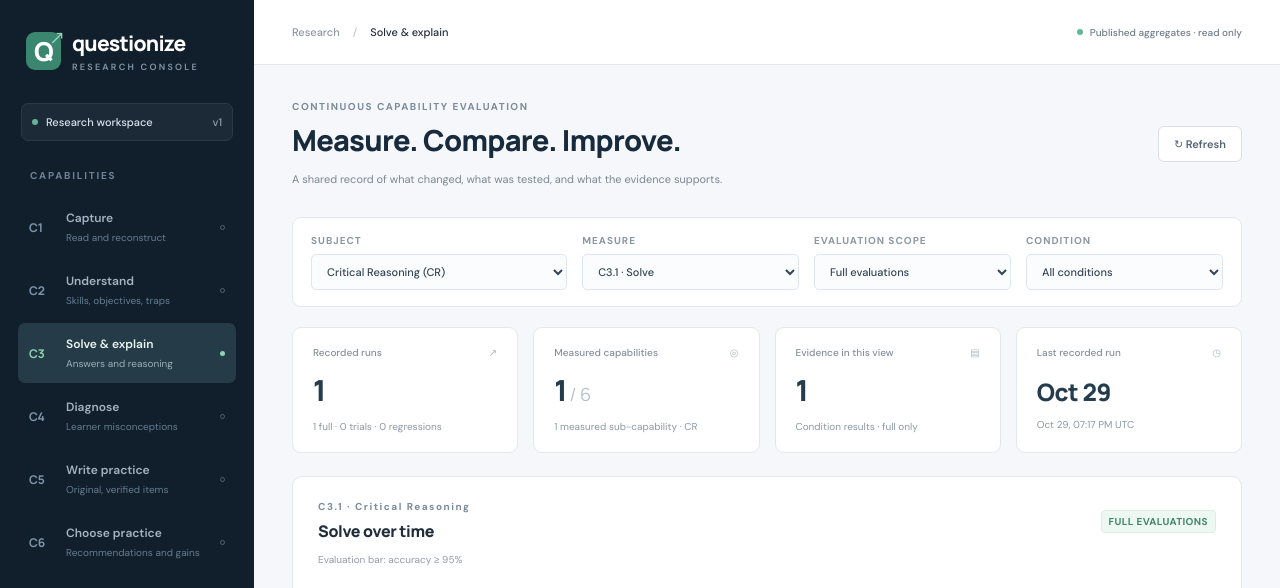
Test: Research console › clears another subject's run provenance when the selected scope has no runs
The width and height of the screenshot is (1280, 588).
Select "Reading Comprehension (RC)" in the dropdown named "Subject": (439, 272) top-left (311, 254), bottom-right (567, 290)
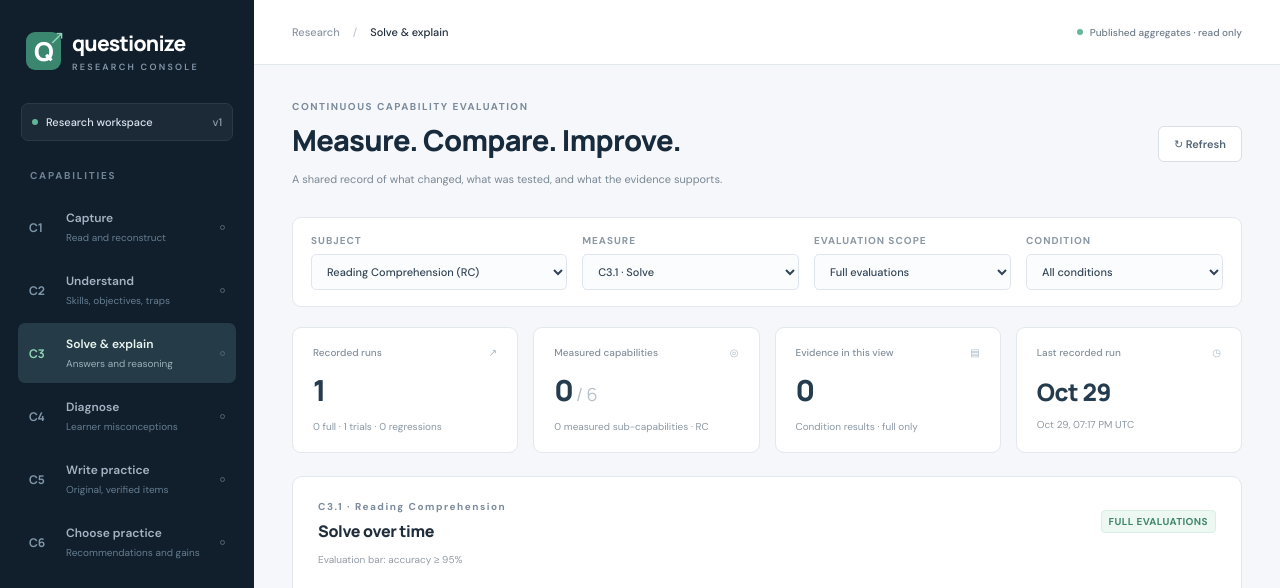
Select "Trial runs" in the dropdown named "Evaluation scope": (912, 272) top-left (814, 254), bottom-right (1011, 290)
(page scrolled)
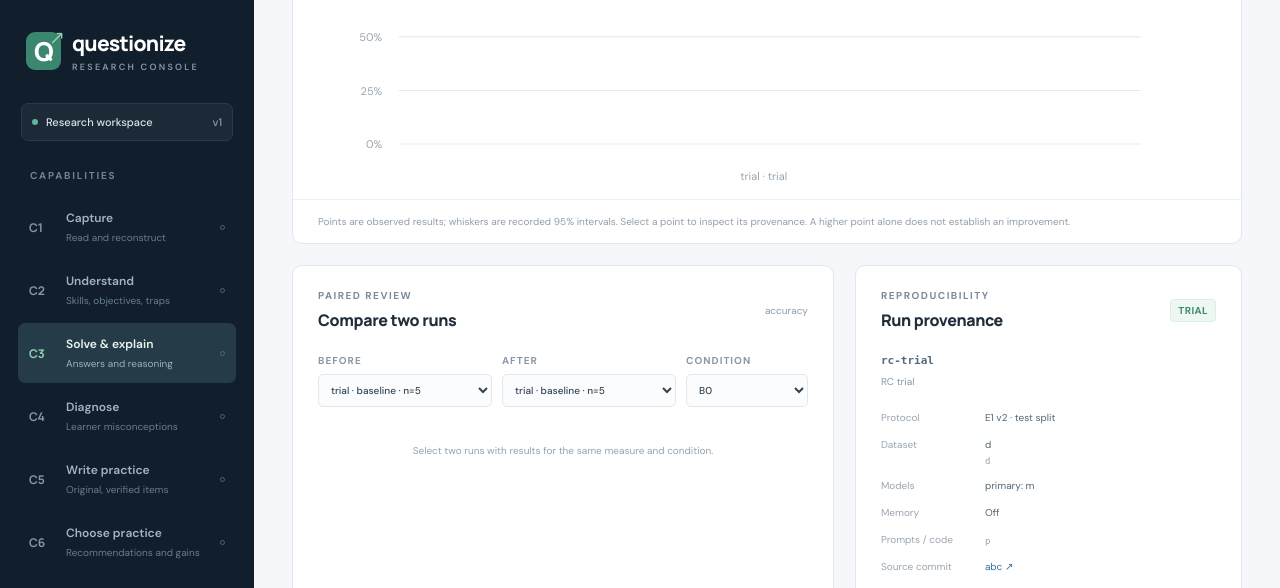
Check: the text with class "run-id" reads "rc-trial", box top-left (881, 354), bottom-right (934, 367)
